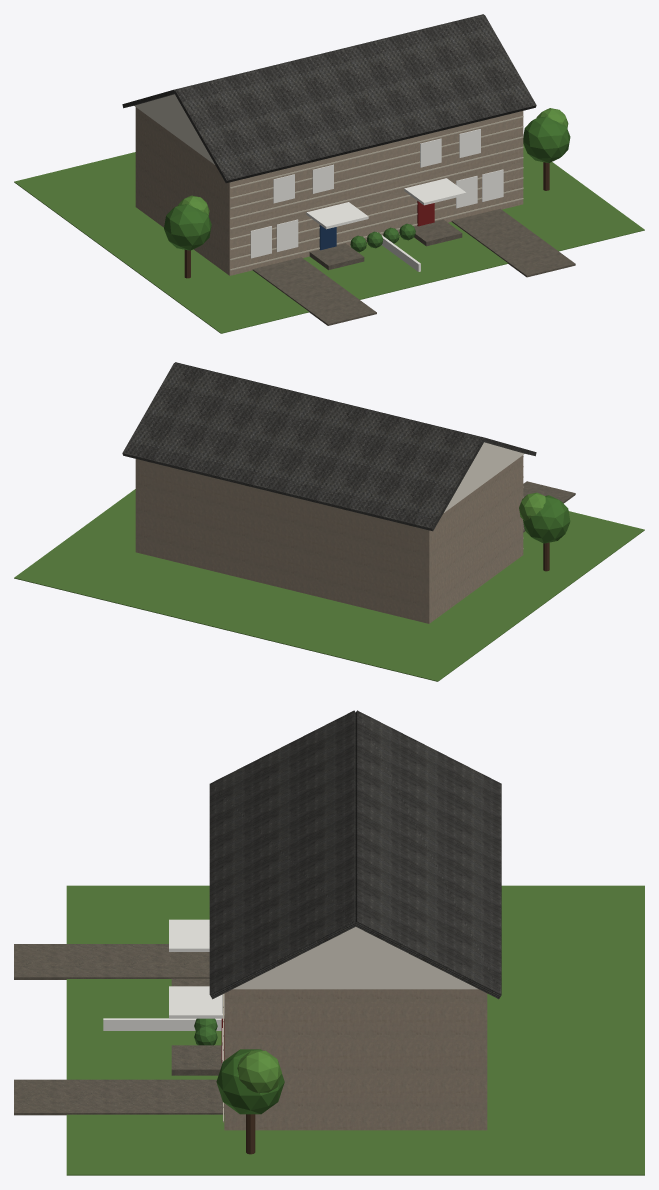
Rendered from OT_Duplex_A.glb.
3 renders of one model, top to bottom at view 1: azimuth 30°, elevation 25°; view 2: azimuth 150°, elevation 25°; view 3: azimuth 270°, elevation 25°, orthographic. The views are drawn at different scales.
Parts seen in each view (by area): view 1: OT_Duplex_A_Shingle, OT_Duplex_A_Lawn__567d3a, OT_Duplex_A_Siding, OT_Duplex_A_Concrete, OT_Duplex_A_TrimWhite__f0efe9, OT_Duplex_A_LapLine__bdb6a4, OT_Duplex_A_Leaf__3f6e2c, OT_Duplex_A_Gable__e8e2d4, OT_Duplex_A_Shrub__3e6b2f, OT_Duplex_A_Leaf2__58893a; view 2: OT_Duplex_A_Siding, OT_Duplex_A_Lawn__567d3a, OT_Duplex_A_Shingle, OT_Duplex_A_Gable__e8e2d4, OT_Duplex_A_Leaf__3f6e2c, OT_Duplex_A_Concrete, OT_Duplex_A_Leaf2__58893a; view 3: OT_Duplex_A_Lawn__567d3a, OT_Duplex_A_Shingle, OT_Duplex_A_Siding, OT_Duplex_A_Concrete, OT_Duplex_A_Gable__e8e2d4, OT_Duplex_A_TrimWhite__f0efe9, OT_Duplex_A_Leaf__3f6e2c, OT_Duplex_A_Leaf2__58893a.
Boxes of the visible parts, bbox=[...] form: OT_Duplex_A_Shingle: bbox=[122, 14, 536, 183]; OT_Duplex_A_Lawn__567d3a: bbox=[14, 144, 644, 333]; OT_Duplex_A_Siding: bbox=[135, 107, 523, 275]; OT_Duplex_A_Concrete: bbox=[252, 208, 575, 325]; OT_Duplex_A_TrimWhite__f0efe9: bbox=[250, 129, 503, 271]; OT_Duplex_A_LapLine__bdb6a4: bbox=[230, 116, 523, 270]; OT_Duplex_A_Leaf__3f6e2c: bbox=[164, 116, 570, 250]; OT_Duplex_A_Gable__e8e2d4: bbox=[134, 94, 214, 164]; OT_Duplex_A_Shrub__3e6b2f: bbox=[350, 223, 415, 252]; OT_Duplex_A_Leaf2__58893a: bbox=[178, 108, 568, 215]; OT_Duplex_A_Siding: bbox=[135, 455, 523, 623]; OT_Duplex_A_Lawn__567d3a: bbox=[14, 489, 644, 681]; OT_Duplex_A_Shingle: bbox=[122, 362, 536, 531]; OT_Duplex_A_Gable__e8e2d4: bbox=[444, 442, 524, 512]; OT_Duplex_A_Leaf__3f6e2c: bbox=[523, 495, 570, 543]; OT_Duplex_A_Concrete: bbox=[523, 481, 575, 532]; OT_Duplex_A_Leaf2__58893a: bbox=[519, 492, 545, 520]; OT_Duplex_A_Lawn__567d3a: bbox=[66, 885, 644, 1175]; OT_Duplex_A_Shingle: bbox=[209, 710, 501, 999]; OT_Duplex_A_Siding: bbox=[224, 989, 487, 1130]; OT_Duplex_A_Concrete: bbox=[14, 944, 224, 1115]; OT_Duplex_A_Gable__e8e2d4: bbox=[233, 927, 478, 989]; OT_Duplex_A_TrimWhite__f0efe9: bbox=[103, 919, 224, 1062]; OT_Duplex_A_Leaf__3f6e2c: bbox=[216, 1049, 284, 1114]; OT_Duplex_A_Leaf2__58893a: bbox=[237, 1050, 281, 1093].
Size of the model in its own units: 26 by 9.04 by 24.
Materials: 15 (3 with a texture image).
